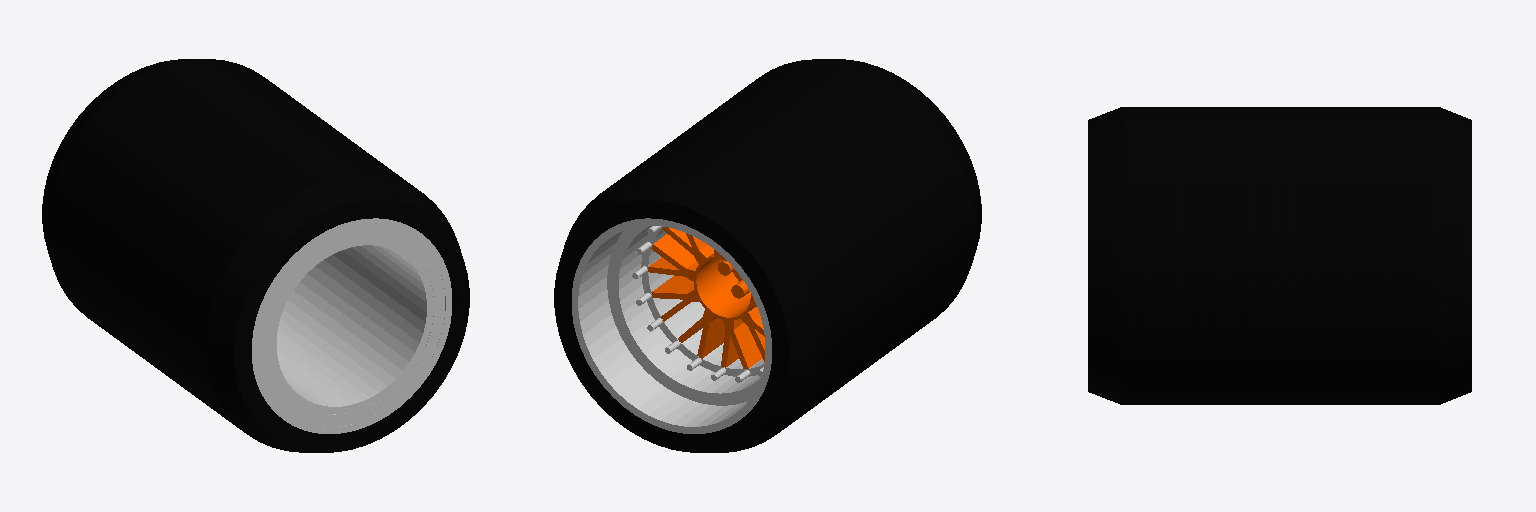
3 views of the same model, side by side, from view 1: azimuth 30°, elevation 25°; view 2: azimuth 150°, elevation 25°; view 3: azimuth 270°, elevation 25° (orthographic).
Visible parts, largest first — view 1: g0; view 2: g0; view 3: g0.
Boxes of the visible parts, x1=… form: g0: x1=42, y1=59, x2=469, y2=452; g0: x1=554, y1=59, x2=981, y2=452; g0: x1=1088, y1=107, x2=1471, y2=404.
Size of the model in its own units: 0.8813 by 0.883 by 1.14.
2 materials, 2 textured.